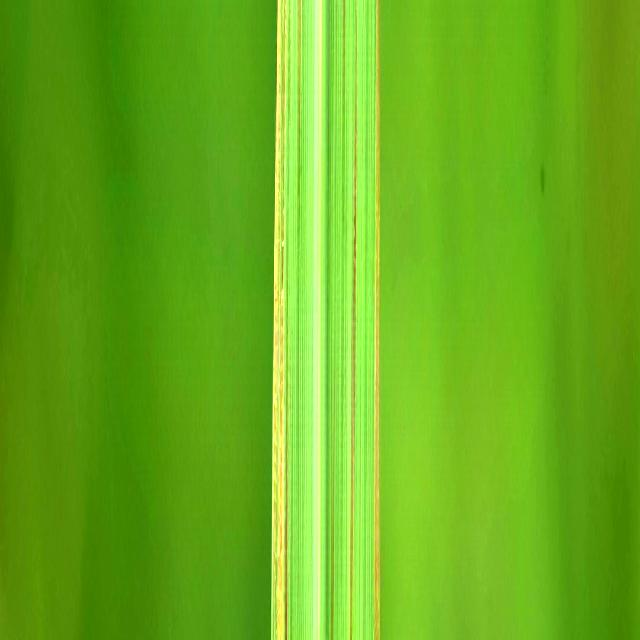BLS: (278, 0, 287, 640), (273, 0, 282, 620), (349, 0, 357, 640), (374, 0, 380, 640), (285, 242, 289, 640), (297, 0, 302, 235), (342, 0, 345, 208), (331, 459, 334, 640), (290, 0, 291, 111), (291, 578, 292, 640), (277, 612, 278, 640)
